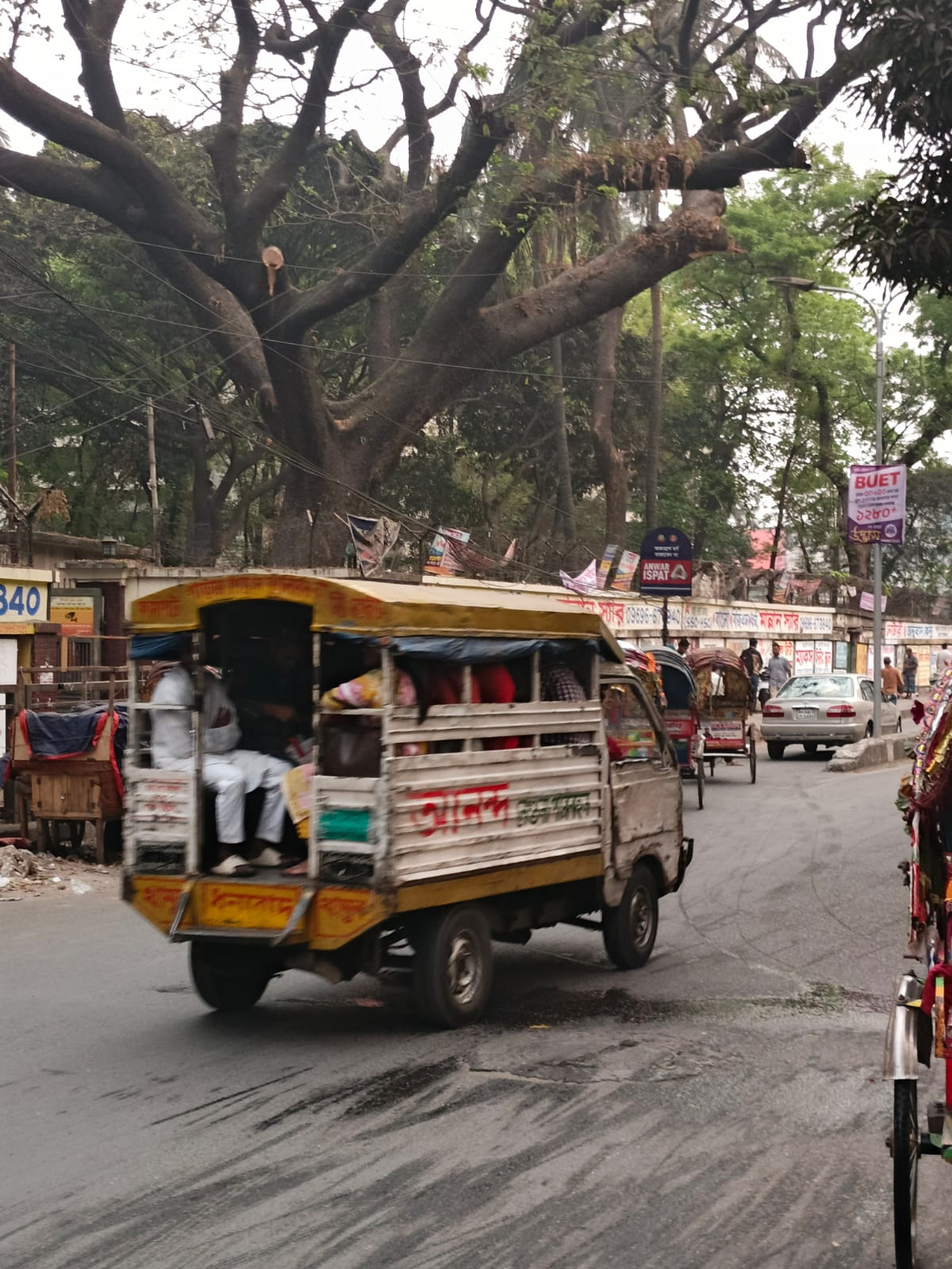Leguna: (111, 545, 711, 1043)
auto-ricksaw: (878, 656, 952, 1259), (669, 619, 772, 794)
private car: (756, 656, 901, 779)
